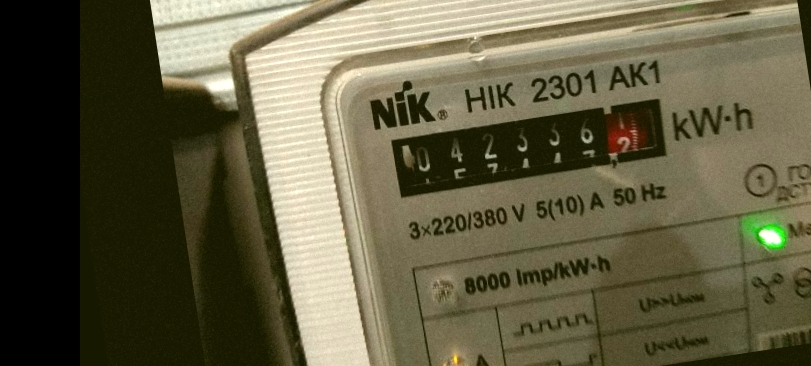0: (413, 143, 433, 173)
1: (613, 107, 628, 131)
2: (480, 129, 500, 160), (615, 132, 633, 153)
3: (542, 116, 563, 148), (511, 123, 530, 153)
4: (446, 133, 467, 164)
6: (576, 113, 598, 145)
screen: (378, 83, 683, 207)
